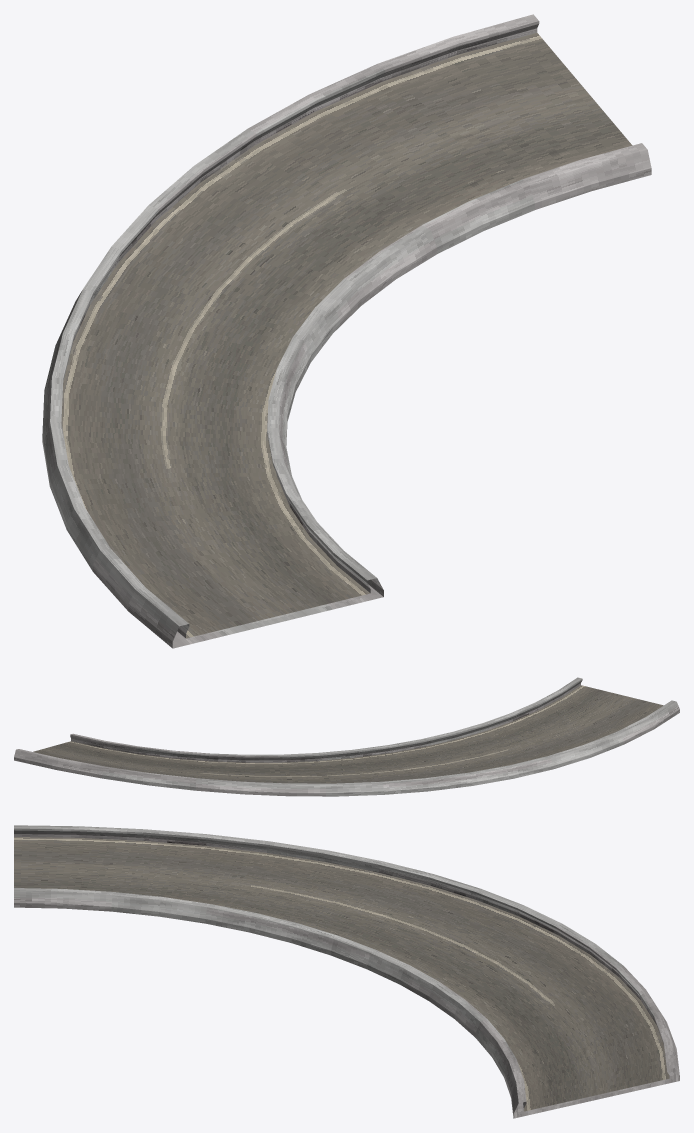
File: turn-right4x4.glb
3 views of the same model, one above another, from view 1: azimuth 30°, elevation 25°; view 2: azimuth 150°, elevation 25°; view 3: azimuth 270°, elevation 25° (orthographic). The views are drawn at different scales.
Visible parts, largest first — view 1: road-Turn-Flat-HalfBankedRight-Even-Right-Size4; view 2: road-Turn-Flat-HalfBankedRight-Even-Right-Size4; view 3: road-Turn-Flat-HalfBankedRight-Even-Right-Size4.
Boxes of the visible parts, x1=… form: road-Turn-Flat-HalfBankedRight-Even-Right-Size4: x1=42, y1=14, x2=651, y2=648; road-Turn-Flat-HalfBankedRight-Even-Right-Size4: x1=14, y1=677, x2=679, y2=796; road-Turn-Flat-HalfBankedRight-Even-Right-Size4: x1=14, y1=825, x2=679, y2=1118.
Size of the model in its own units: 4 by 0.3359 by 4.
2 materials, 2 textured.
